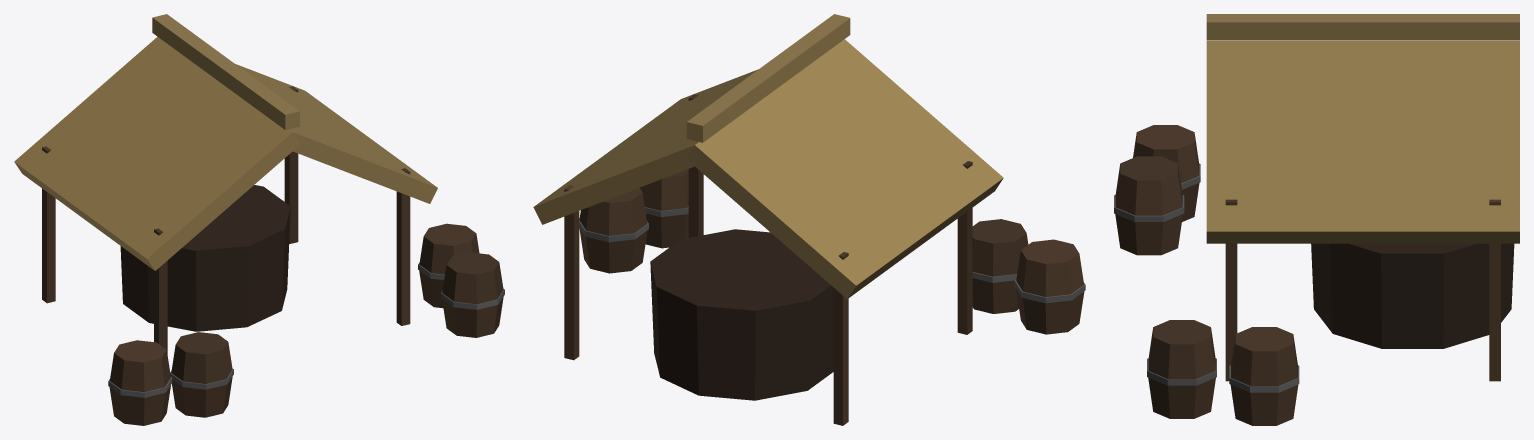
Rendered from yard_brewery.glb.
3 views of the same model, side by side, from view 1: azimuth 30°, elevation 25°; view 2: azimuth 150°, elevation 25°; view 3: azimuth 270°, elevation 25° (orthographic). The views are drawn at different scales.
Visible parts, largest first — view 1: yard_brewery; view 2: yard_brewery; view 3: yard_brewery.
Part boxes in pixels (x1,y1,x2,y2): yard_brewery: (14,14,504,425); yard_brewery: (533,14,1085,425); yard_brewery: (1114,14,1519,425).
Bounding box in the file's own units: 6.65 × 3.9 × 4.92.
2 materials, 2 textured.
